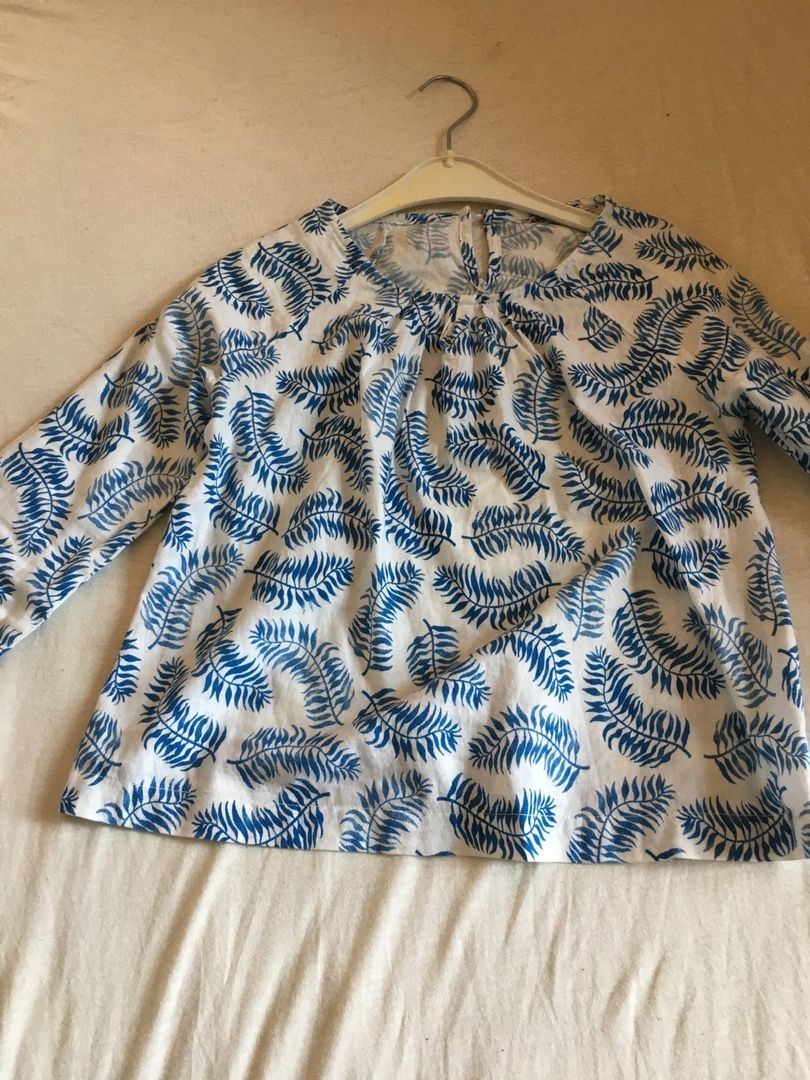clothes: (3, 184, 810, 885)
